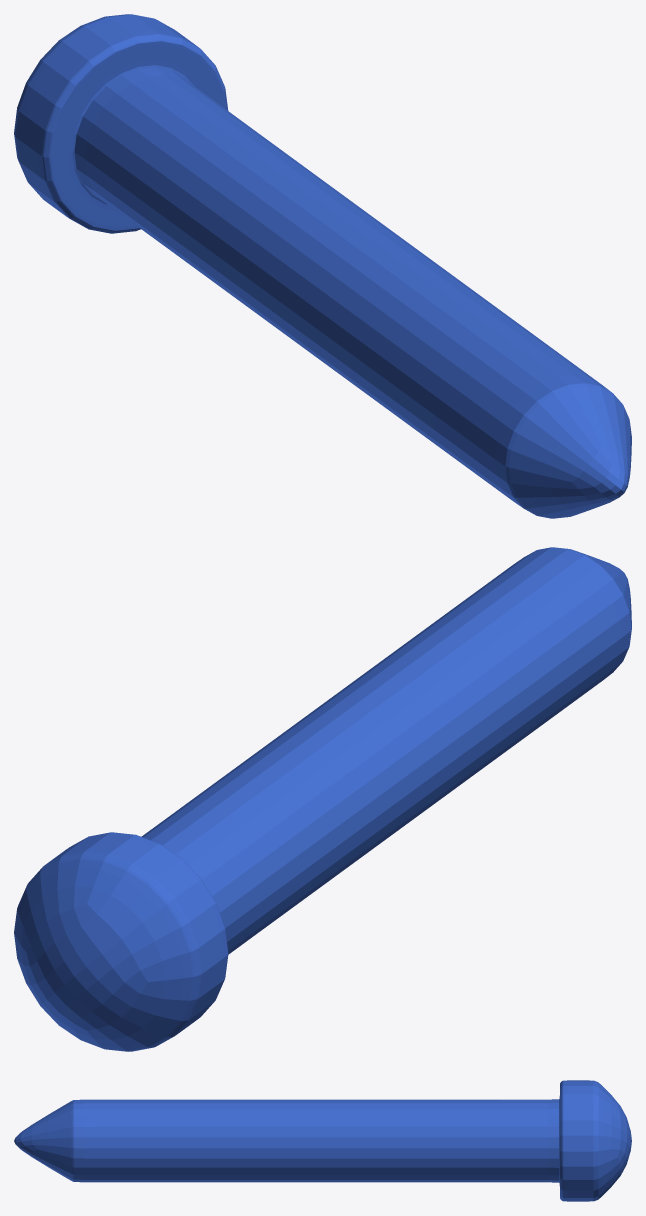
The model's file is canister_bolt.fbx.
3 views of the same model, one above another, from view 1: azimuth 30°, elevation 25°; view 2: azimuth 150°, elevation 25°; view 3: azimuth 270°, elevation 25° (orthographic). The views are drawn at different scales.
Parts seen in each view (by area): view 1: Bolt; view 2: Bolt; view 3: Bolt.
Part boxes in pixels (bbox=[...]): Bolt: bbox=[14, 14, 631, 518]; Bolt: bbox=[14, 547, 631, 1051]; Bolt: bbox=[14, 1080, 631, 1201].
Bounding box in the file's own units: 4.14 × 4.14 × 21.04.
